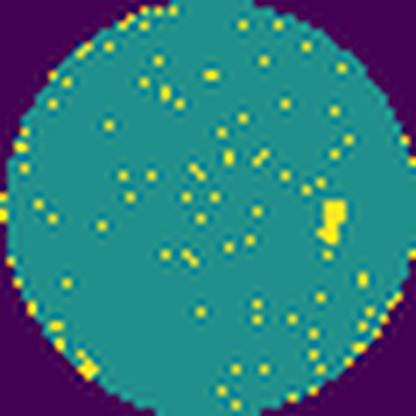Loc: (310, 197, 349, 244)
